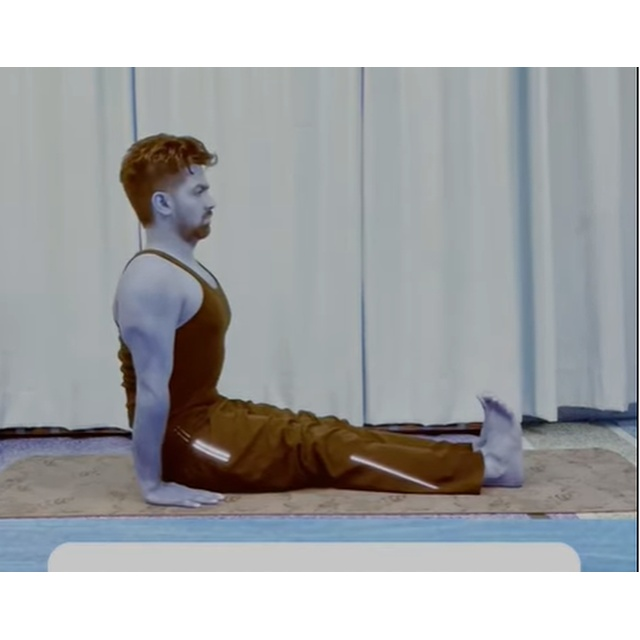Staff_Pose: (109, 132, 526, 508)
